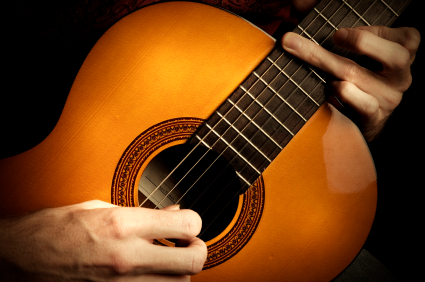guitar: (1, 1, 417, 281)
